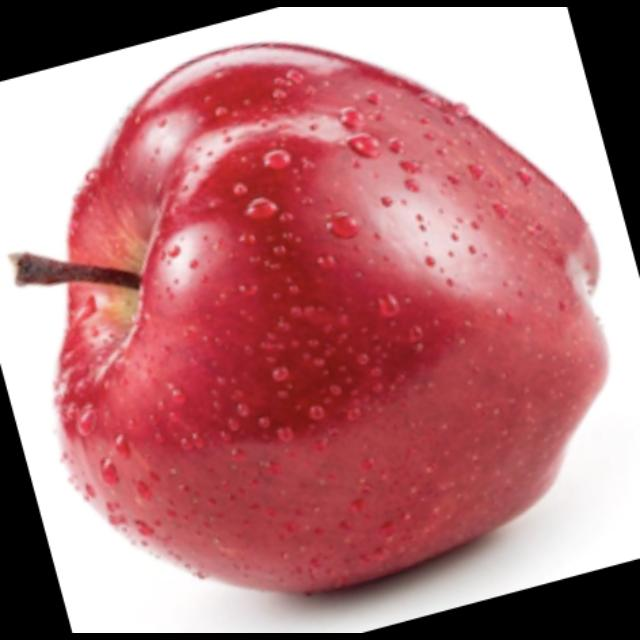Apel Segar: (15, 41, 612, 600)
